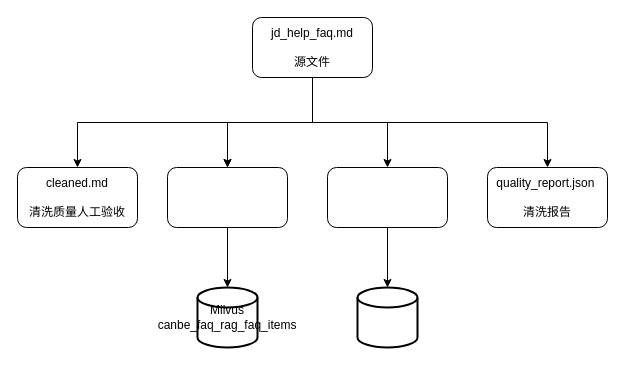
This 625x366 diagram has some shape labels left out. Here are the shapes that lost their labels. From the top down, the centre of each, then its label:
pixel 227 197: cleaned.jsonl 导入 MongoDB
pixel 387 197: chunks.jsonl 导入 MongoDB
